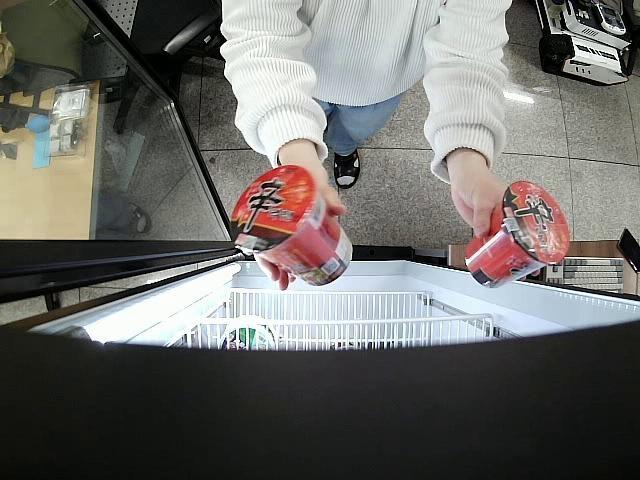02_shinRamen_S: (232, 166, 354, 287), (466, 180, 570, 288)
